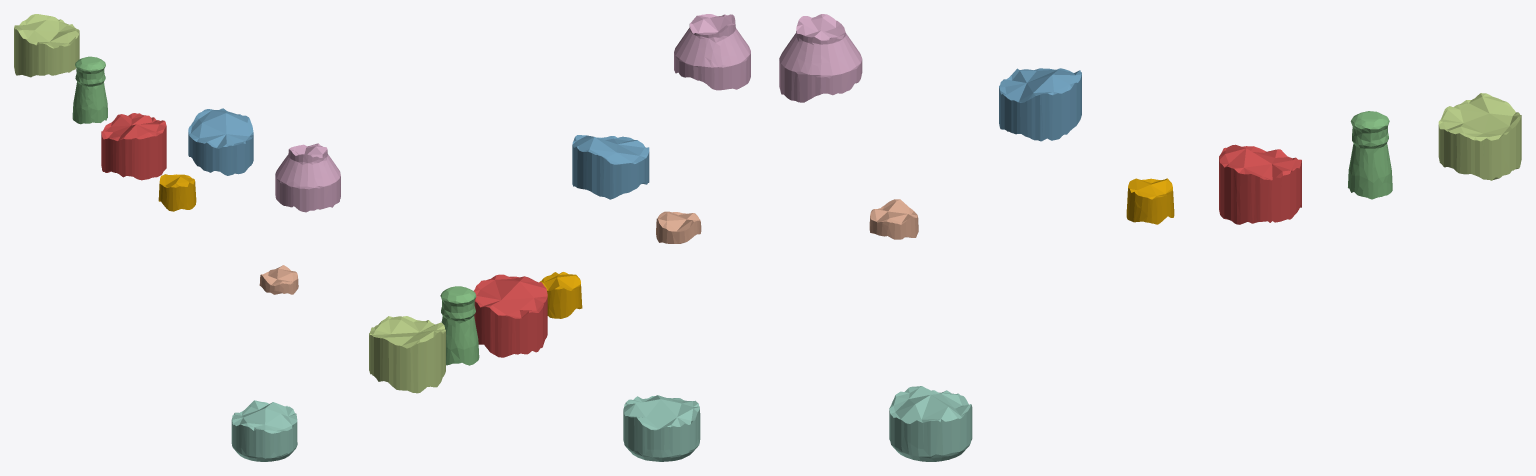
Rendered from fractured_21_8pcs_transformed.glb.
3 views of the same model, side by side, from view 1: azimuth 30°, elevation 25°; view 2: azimuth 150°, elevation 25°; view 3: azimuth 270°, elevation 25° (orthographic). The views are drawn at different scales.
Visible parts, largest first — view 1: piece_1.obj, piece_2.obj, piece_6.obj, piece_5.obj, piece_4.obj, piece_3.obj, piece_0.obj, piece_7.obj; view 2: piece_1.obj, piece_5.obj, piece_6.obj, piece_4.obj, piece_2.obj, piece_3.obj, piece_0.obj, piece_7.obj; view 3: piece_5.obj, piece_1.obj, piece_6.obj, piece_4.obj, piece_2.obj, piece_3.obj, piece_0.obj, piece_7.obj.
Part boxes in pixels (x1,y1,x2,y2): piece_1.obj: [101, 113, 166, 180]; piece_2.obj: [188, 108, 253, 175]; piece_6.obj: [275, 143, 340, 212]; piece_5.obj: [14, 14, 79, 77]; piece_4.obj: [231, 400, 297, 461]; piece_3.obj: [72, 56, 107, 124]; piece_0.obj: [158, 174, 196, 211]; piece_7.obj: [259, 265, 298, 294]; piece_1.obj: [474, 274, 547, 357]; piece_5.obj: [369, 316, 445, 393]; piece_6.obj: [674, 14, 750, 90]; piece_4.obj: [623, 395, 700, 461]; piece_2.obj: [572, 135, 649, 199]; piece_3.obj: [440, 286, 479, 365]; piece_0.obj: [539, 272, 582, 318]; piece_7.obj: [656, 211, 701, 243]; piece_5.obj: [1438, 93, 1521, 180]; piece_1.obj: [1219, 144, 1301, 224]; piece_6.obj: [779, 14, 862, 102]; piece_4.obj: [889, 386, 972, 461]; piece_2.obj: [999, 68, 1081, 141]; piece_3.obj: [1348, 111, 1392, 199]; piece_0.obj: [1126, 178, 1174, 224]; piece_7.obj: [869, 199, 918, 239].
Bounding box in the file's own units: 0.2267 × 1.28 × 2.03.
